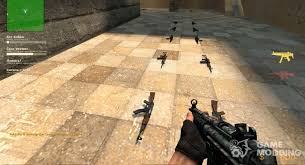gun: (187, 98, 277, 163), (131, 90, 158, 145), (199, 53, 213, 74), (156, 51, 168, 70), (192, 33, 202, 44), (164, 33, 174, 43)
